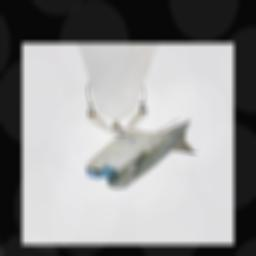Swallow: (86, 116, 199, 189)
